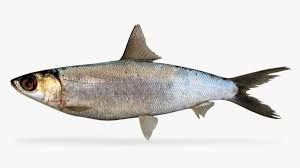Bangus: (11, 23, 293, 141)
